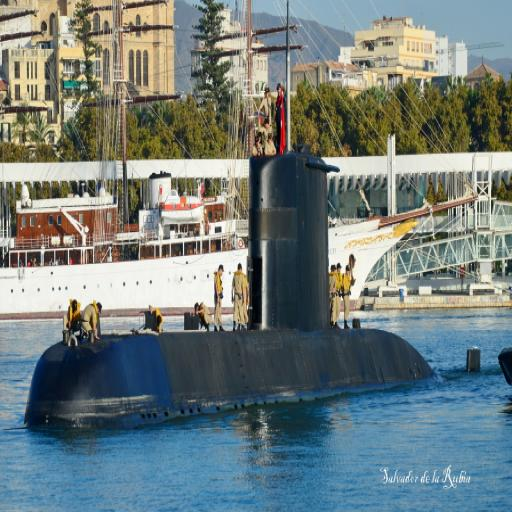submarine: (23, 155, 485, 438)
